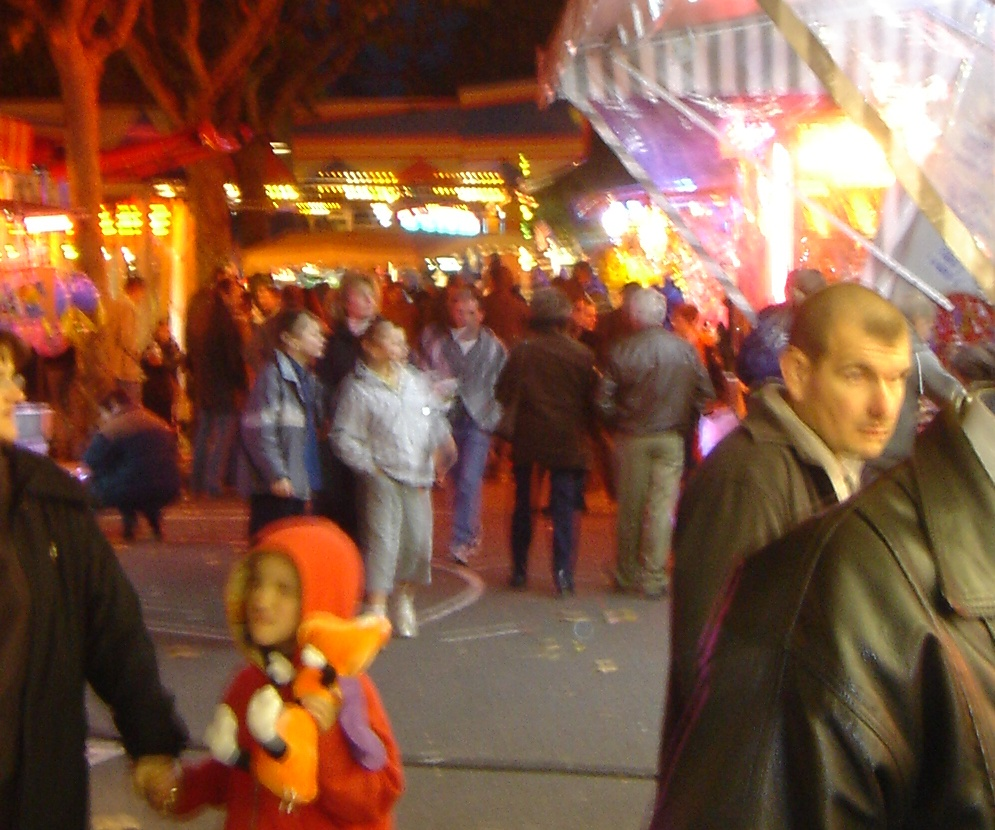person: (609, 283, 699, 604)
